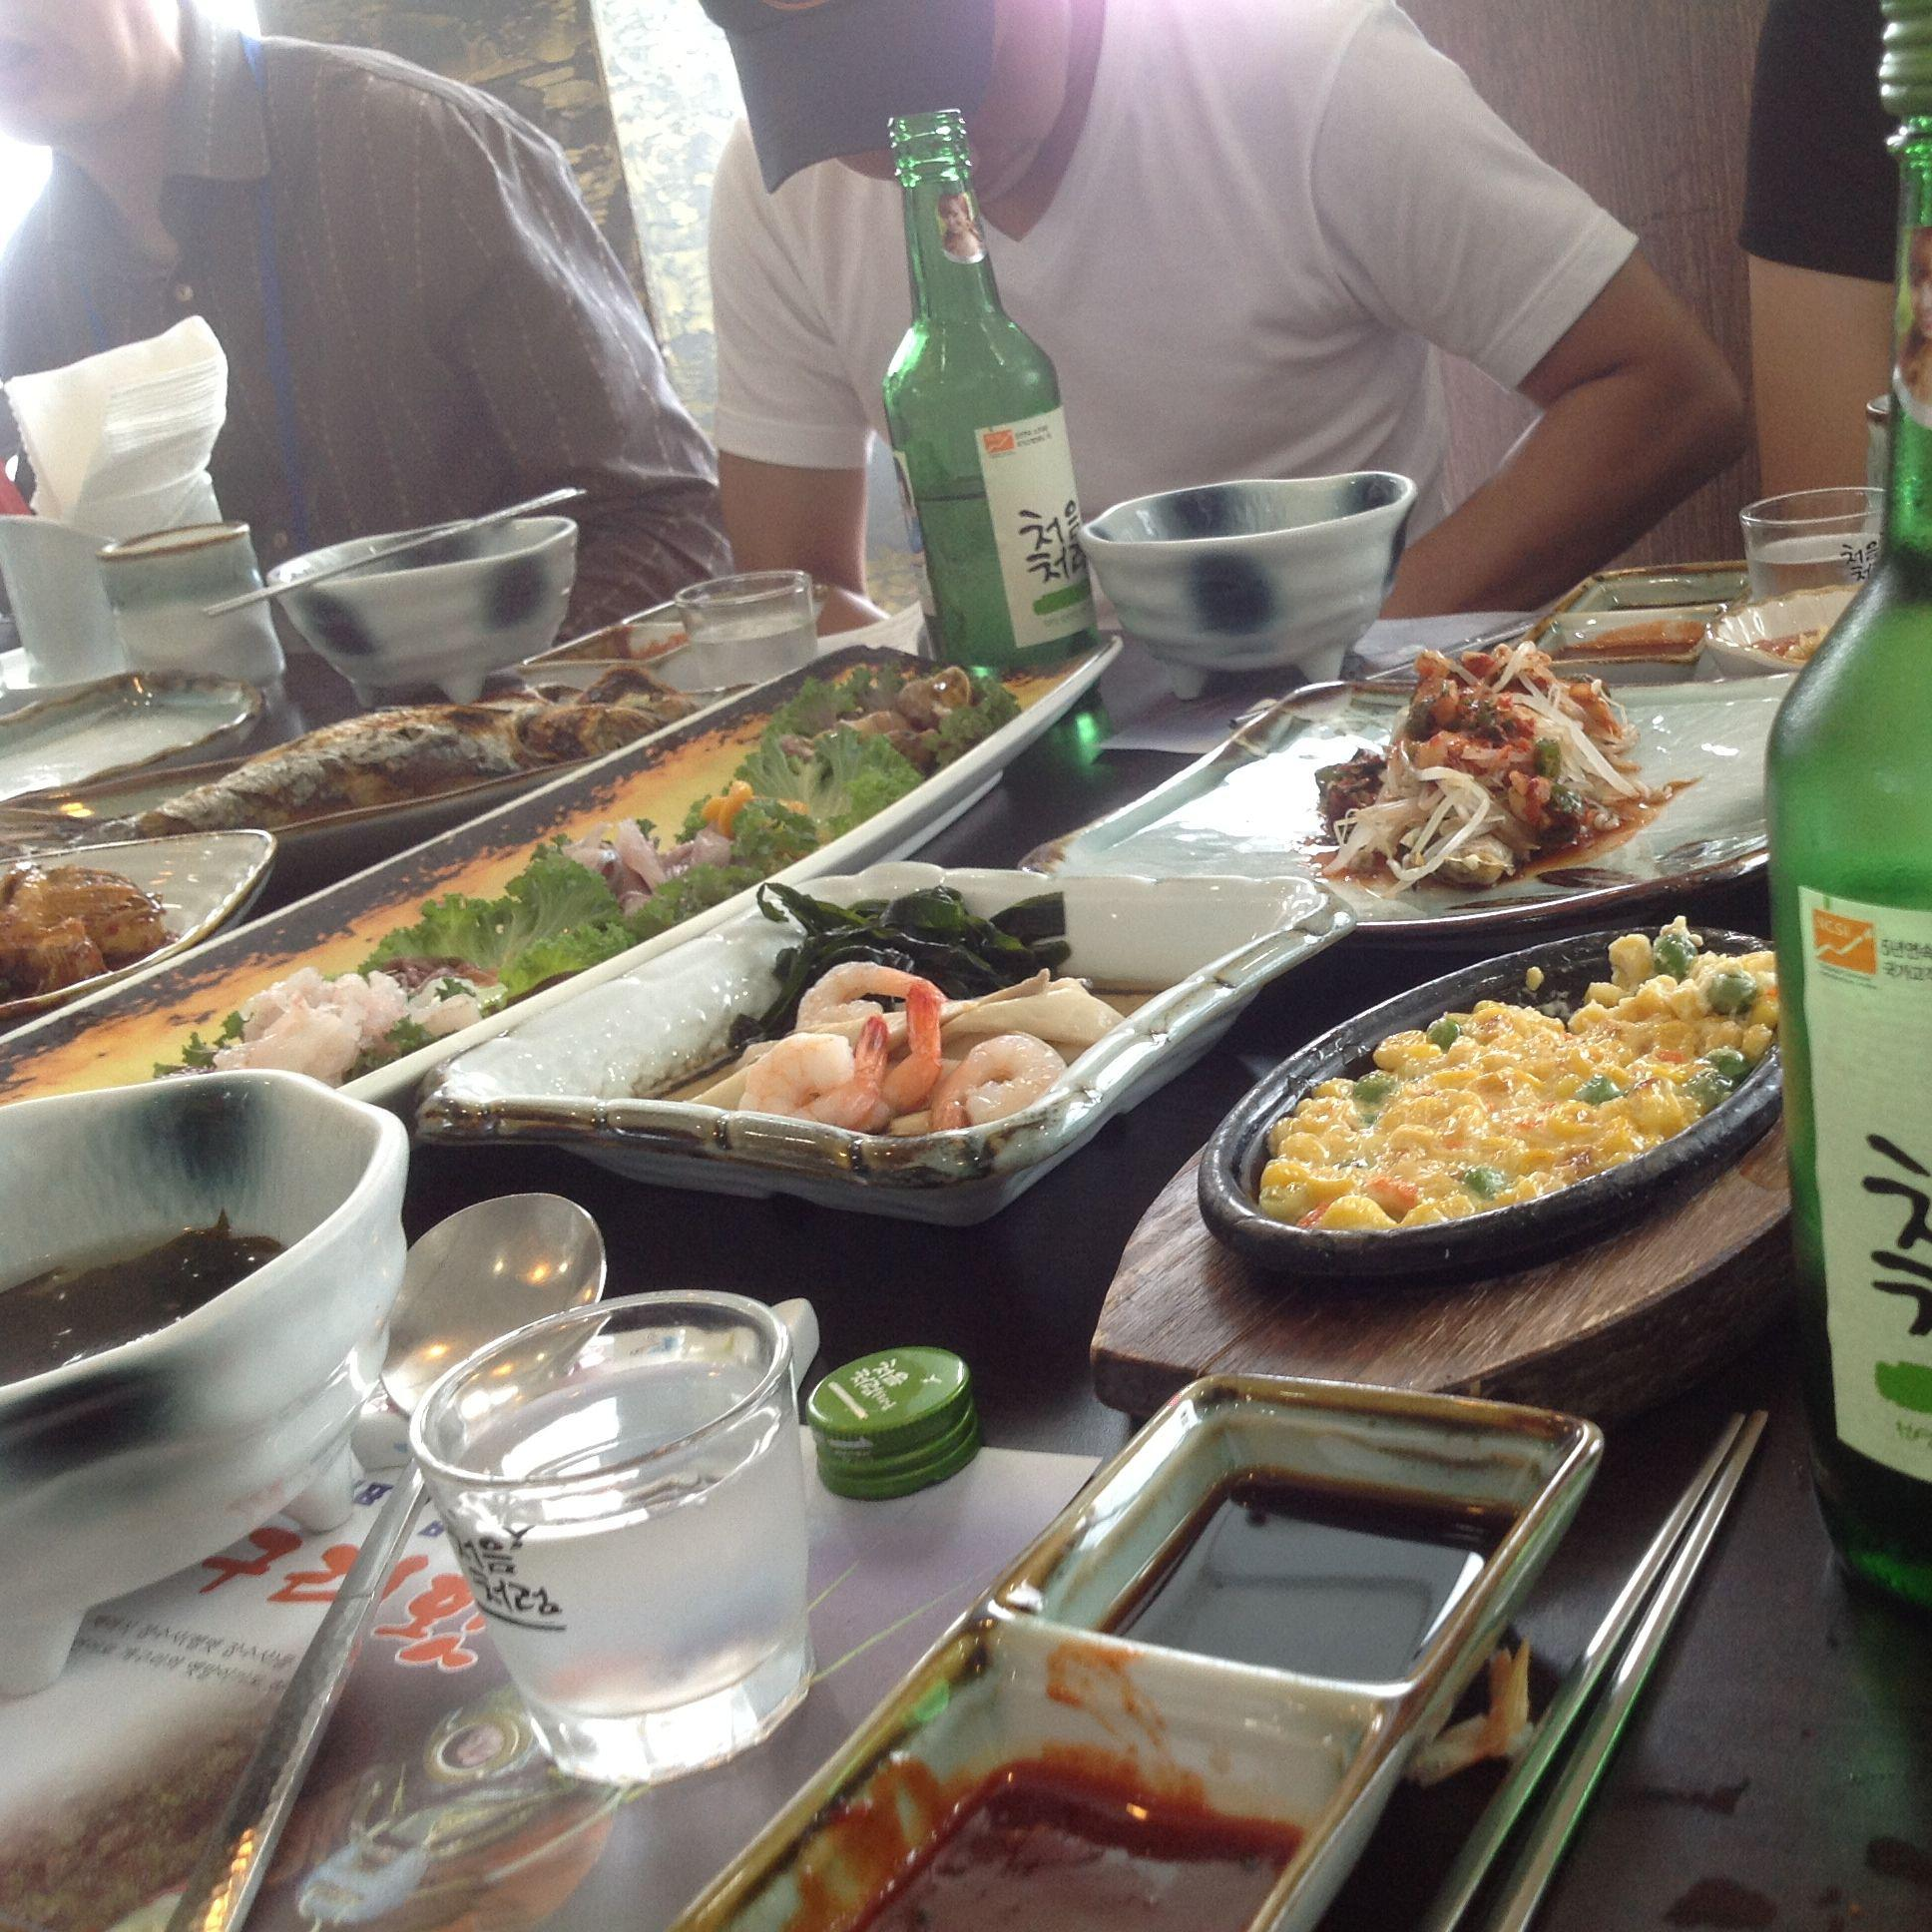soju: (1748, 7, 1928, 1621), (870, 99, 1125, 671)
